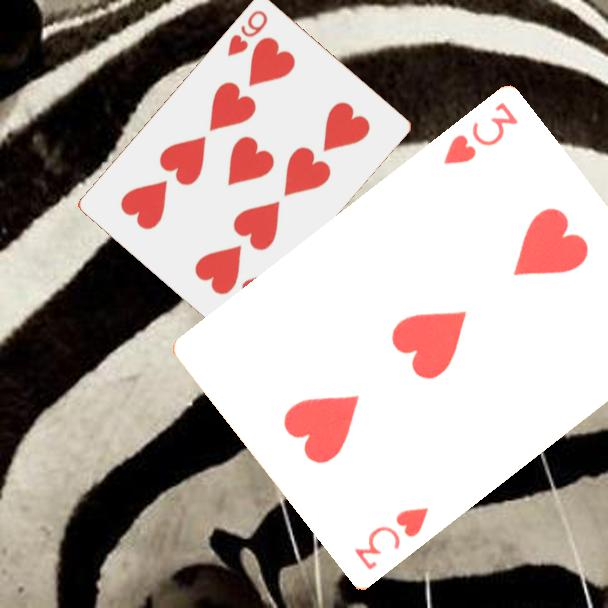h03: (350, 504, 432, 574), (439, 99, 521, 169)
h09: (224, 6, 271, 59)
